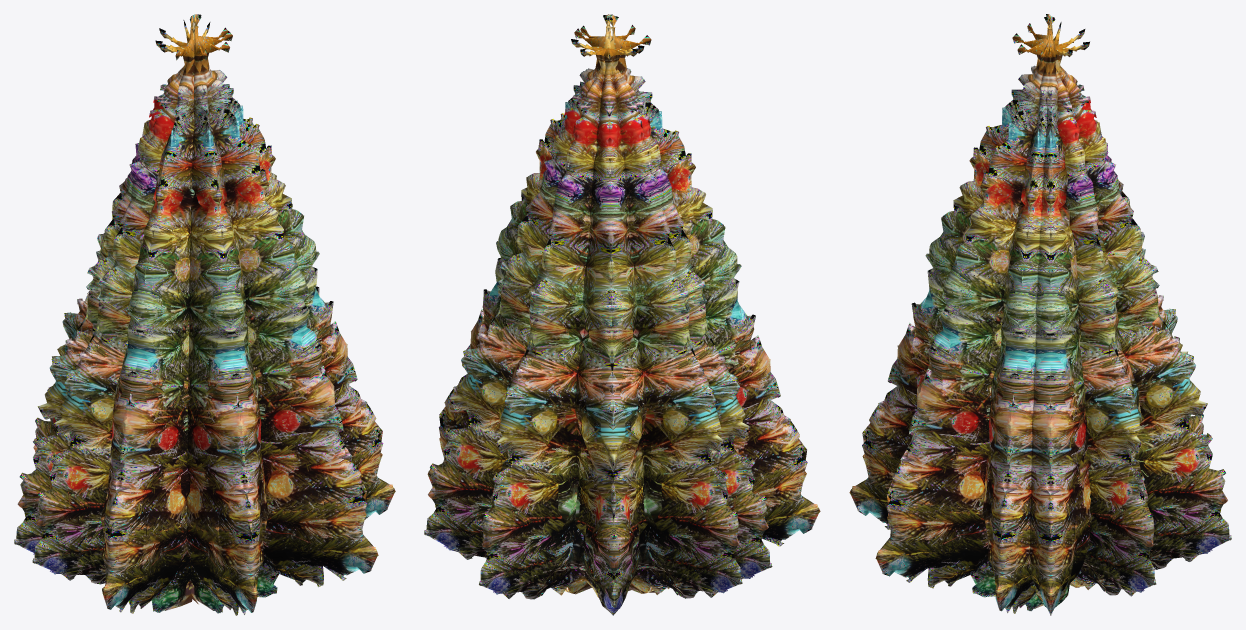
Rendered from tree.gltf.
3 views of the same model, side by side, from view 1: azimuth 30°, elevation 25°; view 2: azimuth 150°, elevation 25°; view 3: azimuth 270°, elevation 25° (orthographic).
Visible parts, largest first — view 1: root; view 2: root; view 3: root.
Boxes of the visible parts, box(x1,y1,x2,y2) form: root: box(14, 14, 395, 615); root: box(424, 14, 820, 615); root: box(849, 14, 1231, 615).
Bounding box in the file's own units: 1.2 × 1.91 × 1.17.
Materials: 1 (1 with a texture image).
